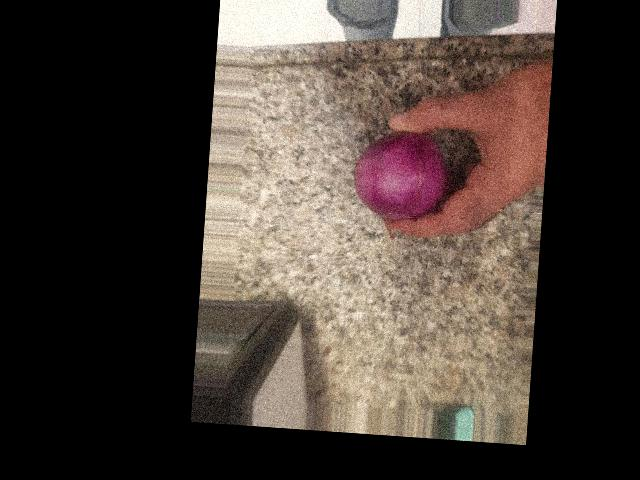onion: (251, 197, 341, 286)
